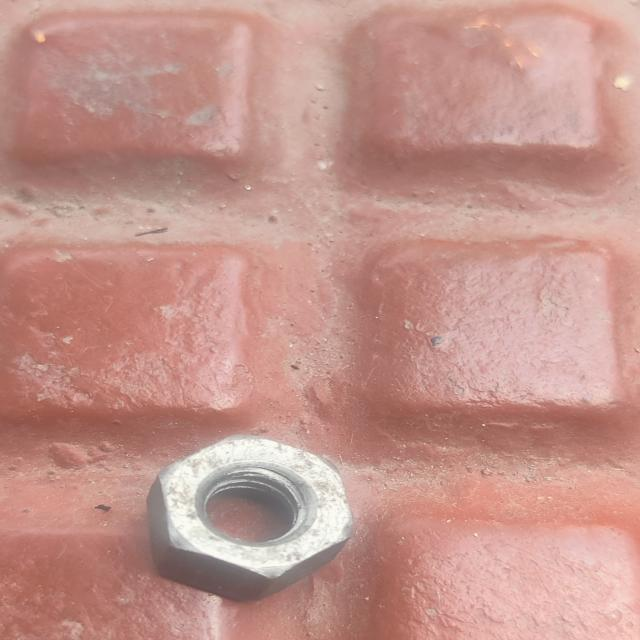disinfected nut: (147, 435, 353, 600)
